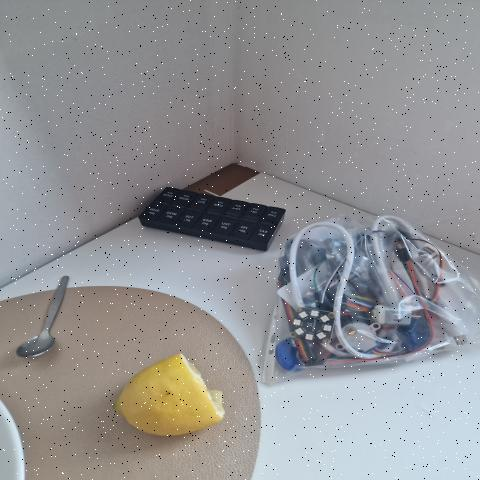Pill-box: (126, 186, 298, 242)
